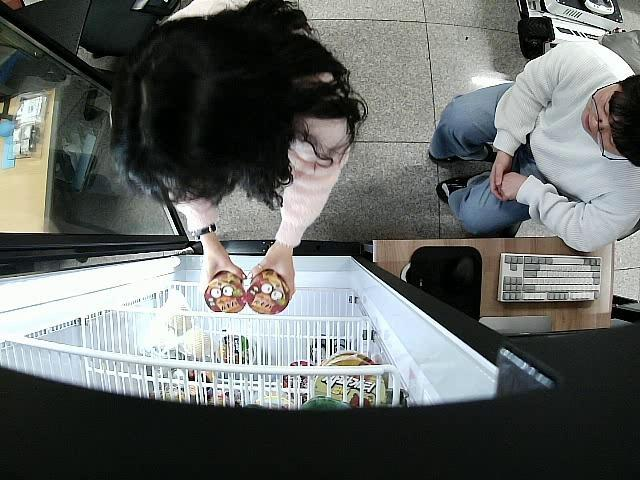06_nuguri_S: (246, 270, 290, 314), (204, 268, 246, 314)
